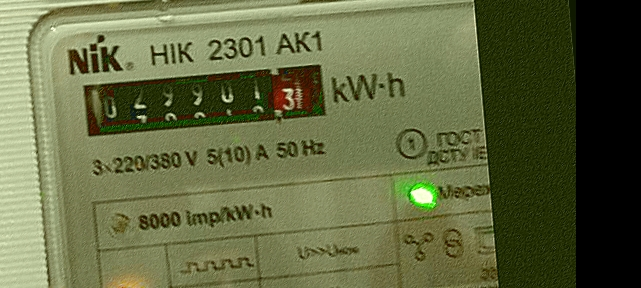0: (97, 90, 118, 118), (215, 74, 234, 104)
1: (246, 70, 262, 99)
2: (127, 81, 147, 110)
3: (276, 83, 296, 110)
9: (157, 79, 175, 107), (188, 77, 203, 105)
screen: (71, 51, 336, 145)
